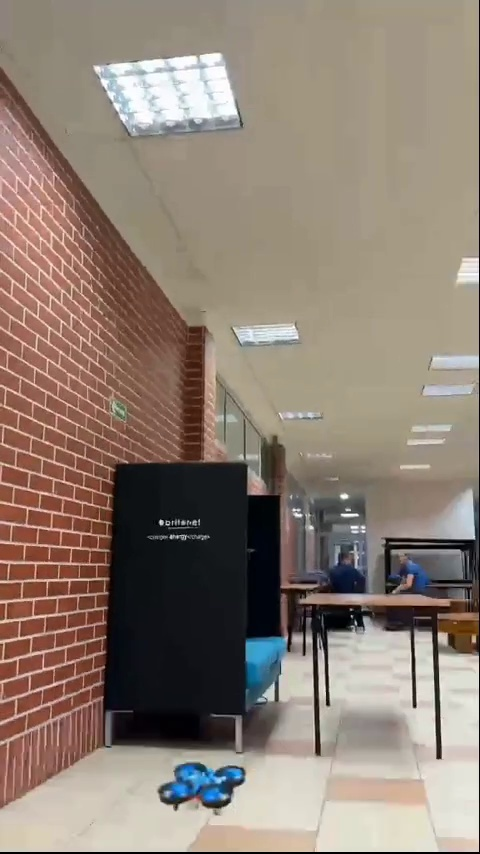drone: (157, 761, 243, 811)
no vest: (389, 543, 437, 608), (327, 546, 368, 594)
